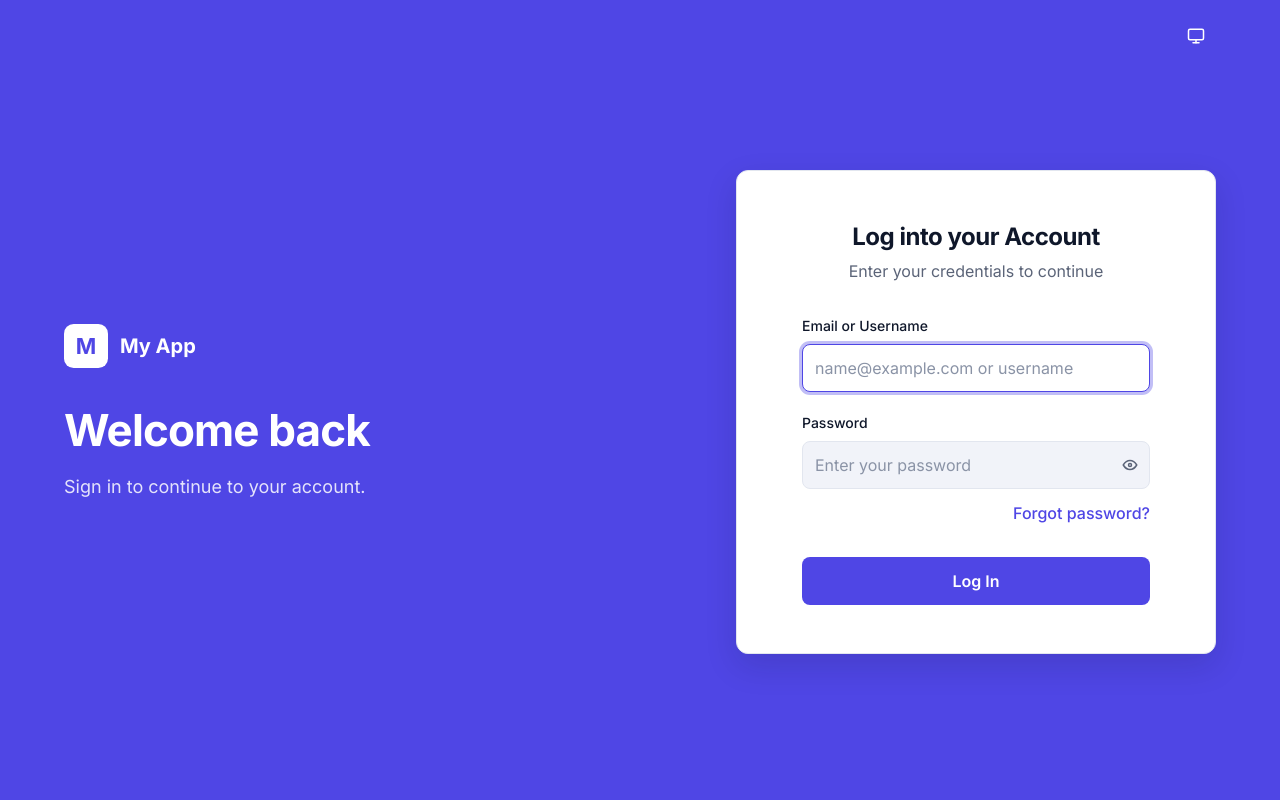
Test case: login › a successful login opens the start page with the user from the server
Check: the heading "Log into your Account" is shown, box left=852, top=222, right=1100, bottom=251
Type "admin" into the field labelled "Email or Username".
click(976, 368); type("admin")  # box left=802, top=344, right=1150, bottom=392
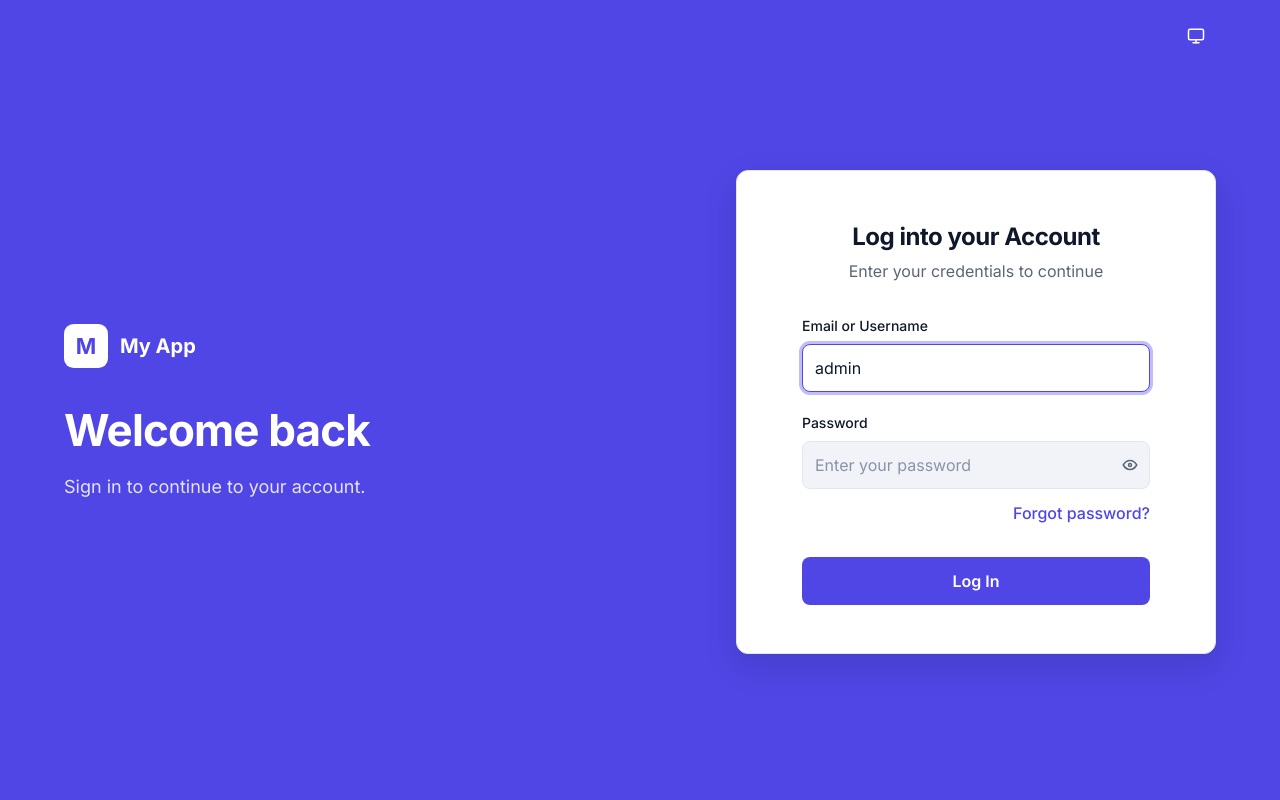
Type "Admin123!" into the password field labelled "Password".
click(976, 465); type("Admin123!")  # box left=802, top=441, right=1150, bottom=489
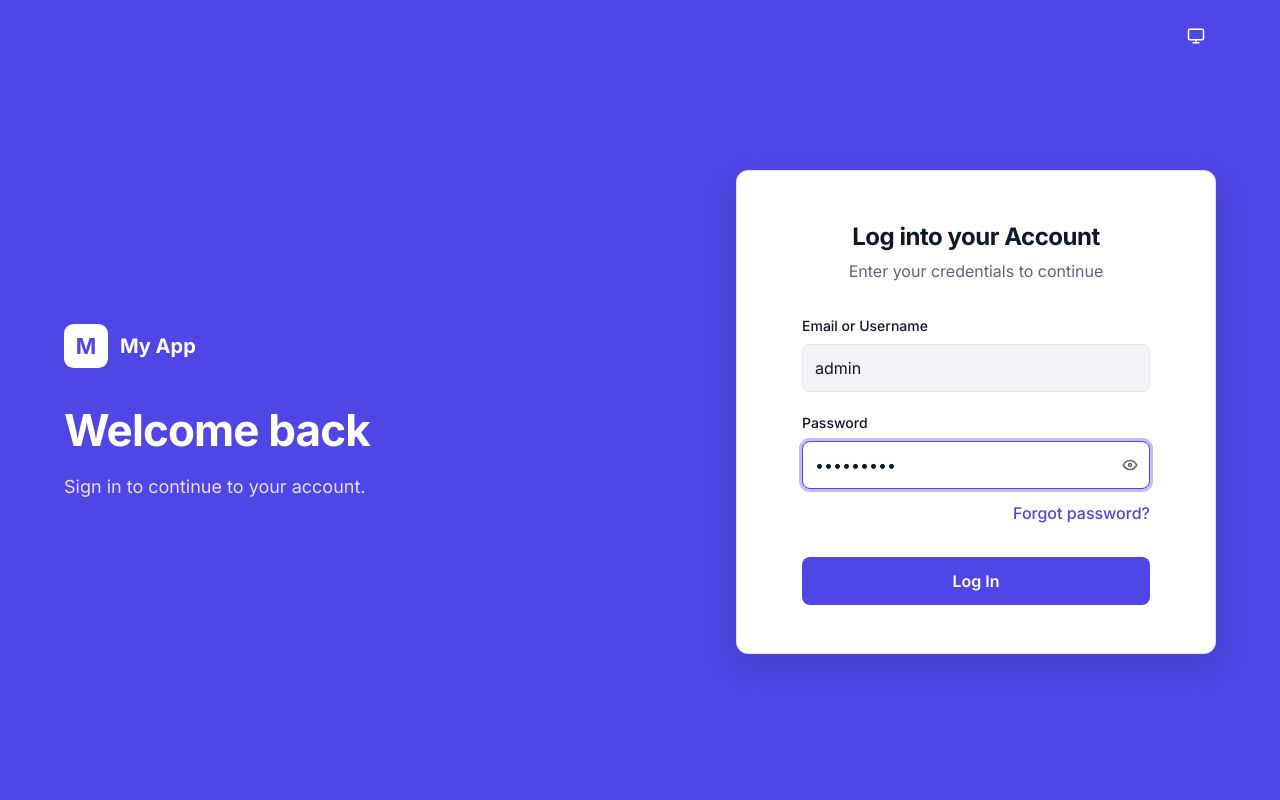
Click the button "Log In".
click(976, 581)  # box left=802, top=557, right=1150, bottom=605
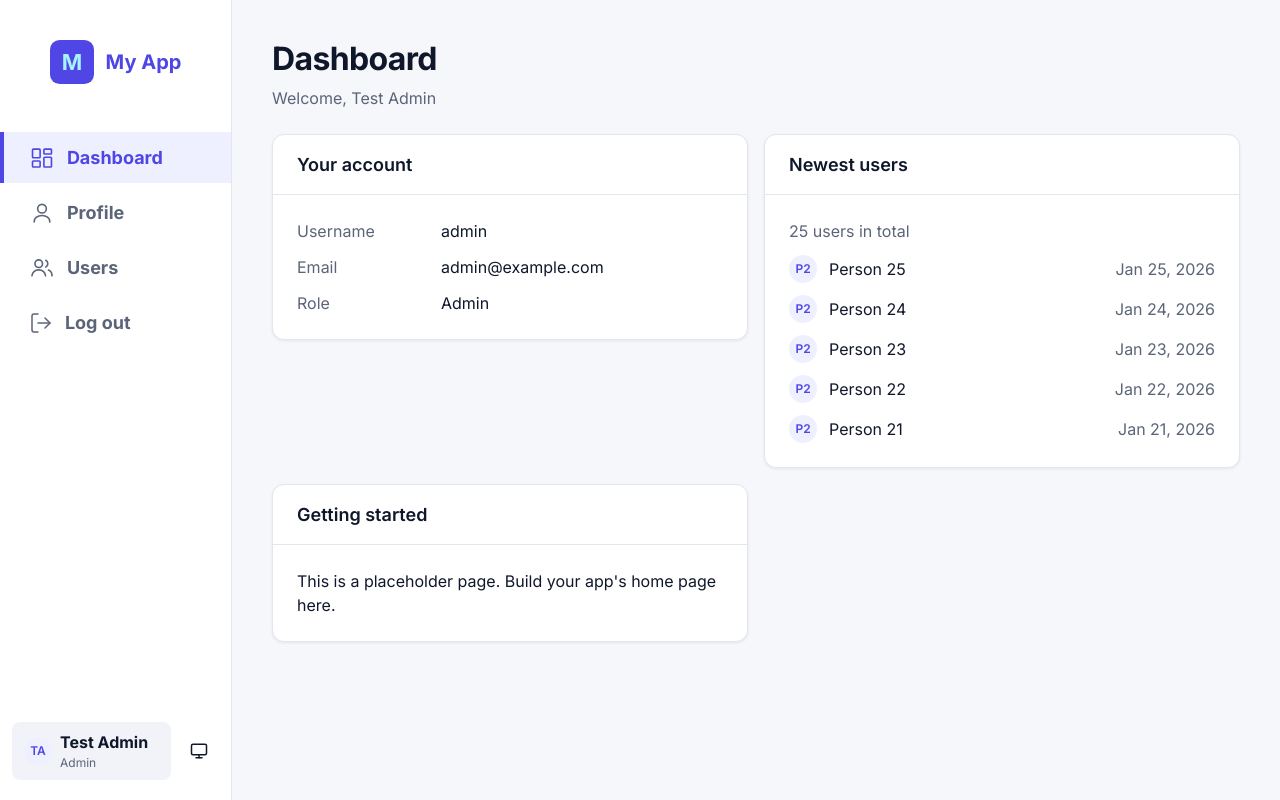
Check: the heading "Dashboard" is shown, box left=272, top=40, right=437, bottom=78
Check: the text "Welcome, Test Admin" is shown, box left=272, top=86, right=437, bottom=110
